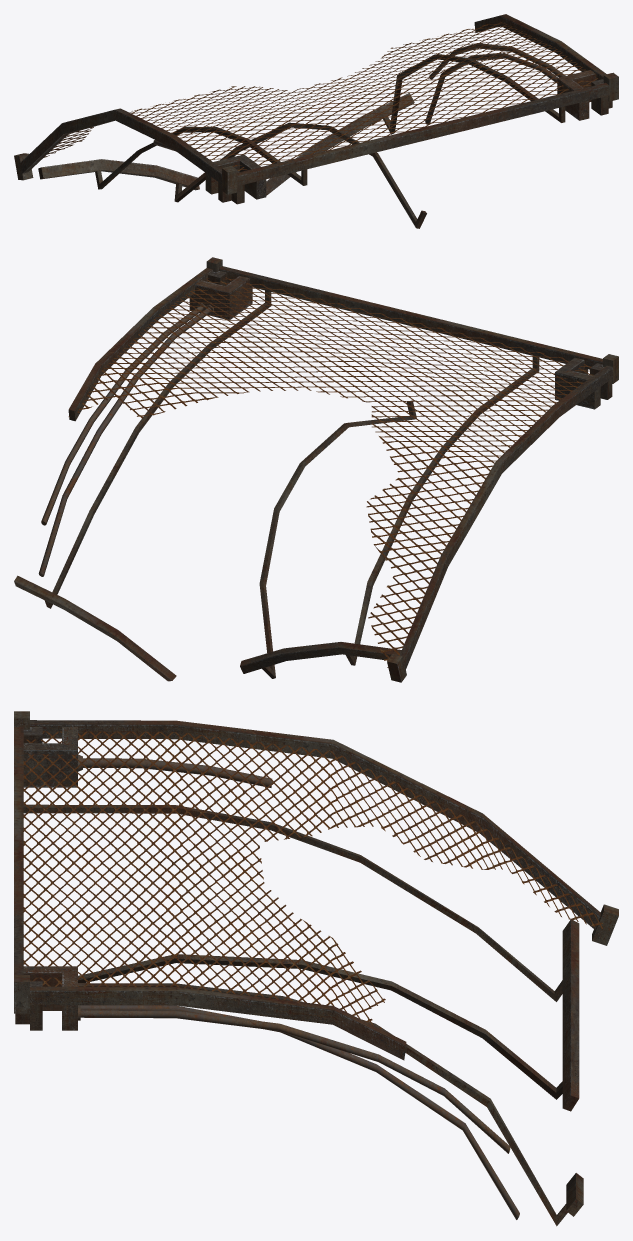
Rendered from SM_Platform_Broken_B.fbx.
The picture shows the model from 3 angles, top to bottom: view 1: azimuth 30°, elevation 25°; view 2: azimuth 150°, elevation 25°; view 3: azimuth 270°, elevation 25°; orthographic projection. The views are drawn at different scales.
Parts seen in each view (by area): view 1: SM_Platform_Broken_B; view 2: SM_Platform_Broken_B; view 3: SM_Platform_Broken_B.
Boxes of the visible parts, left/top/right/bottom form: SM_Platform_Broken_B: left=14, top=14, right=618, bottom=228; SM_Platform_Broken_B: left=14, top=257, right=618, bottom=682; SM_Platform_Broken_B: left=14, top=711, right=618, bottom=1226.
Size of the model in its own units: 200 by 110 by 189.
